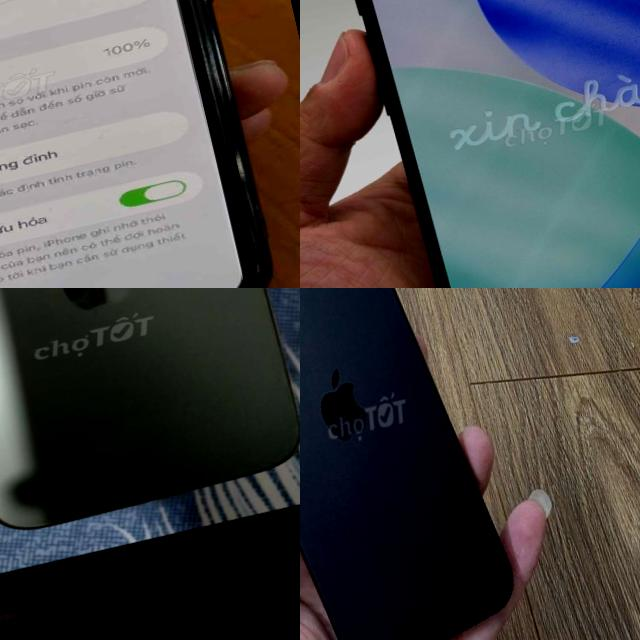gen_12_13: (0, 0, 292, 288), (0, 288, 300, 557)
gen_15: (302, 0, 640, 288)
gen_16: (300, 288, 511, 640)
